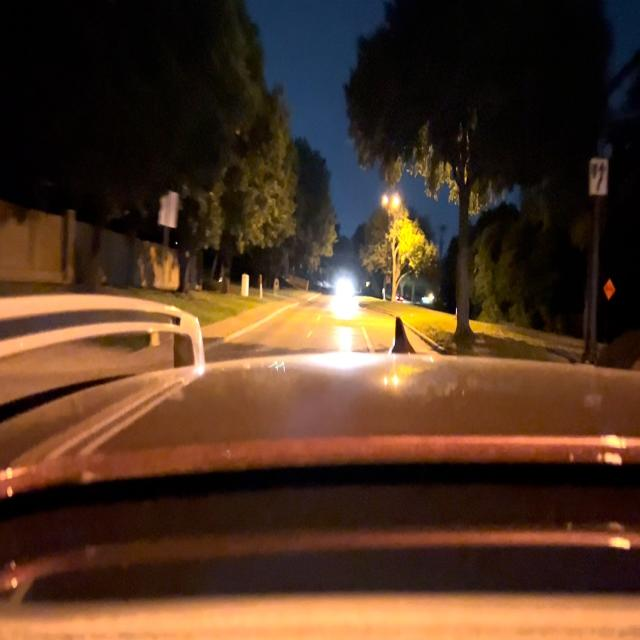back-of-sign: (162, 193, 176, 226)
